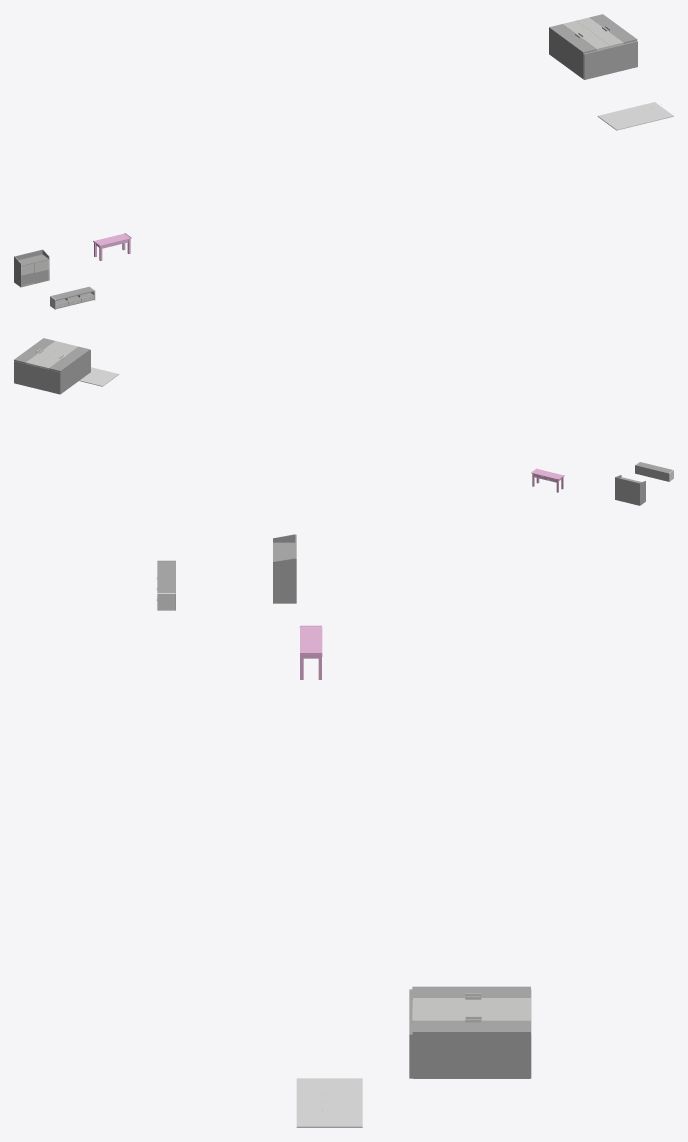
The model's file is family.gltf.
3 renders of one model, top to bottom at view 1: azimuth 30°, elevation 25°; view 2: azimuth 150°, elevation 25°; view 3: azimuth 270°, elevation 25°, orthographic. The views are drawn at different scales.
Visible parts, largest first — view 1: 门4 (×4), 下, floor, 大衣柜左.1; view 2: 门4 (×4), 上, 大衣柜左.1, 鞋柜后, floor, 电视柜后; view 3: 门4 (×4), 大衣柜右, floor, 侧板.
Boxes of the visible parts, x1,y1,x2,y2 form: 门4 (×4): [549, 14, 637, 53]; 下: [583, 41, 637, 79]; floor: [597, 102, 673, 130]; 大衣柜左.1: [549, 29, 583, 78]; 门4 (×4): [14, 338, 90, 372]; 上: [14, 361, 60, 394]; 大衣柜左.1: [60, 351, 89, 393]; 鞋柜后: [615, 477, 640, 505]; floor: [79, 367, 119, 386]; 电视柜后: [635, 465, 669, 481]; 门4 (×4): [412, 986, 530, 1034]; 大衣柜右: [413, 1034, 529, 1078]; floor: [296, 1078, 362, 1127]; 侧板: [273, 558, 295, 602].
Size of the model in its own units: 11825 by 1045 by 3366.
